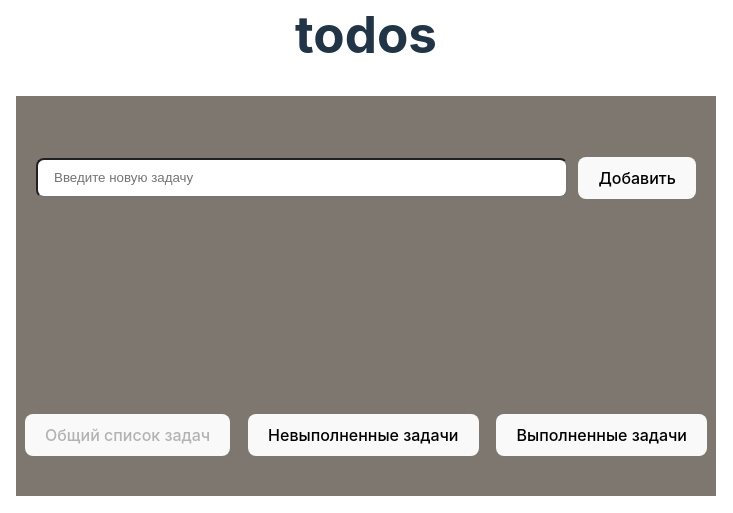
Test: добавление новой задачи
Type "Первая задача" into the field with placeholder "Введите новую задачу" at (302, 178), box [36, 158, 568, 198]
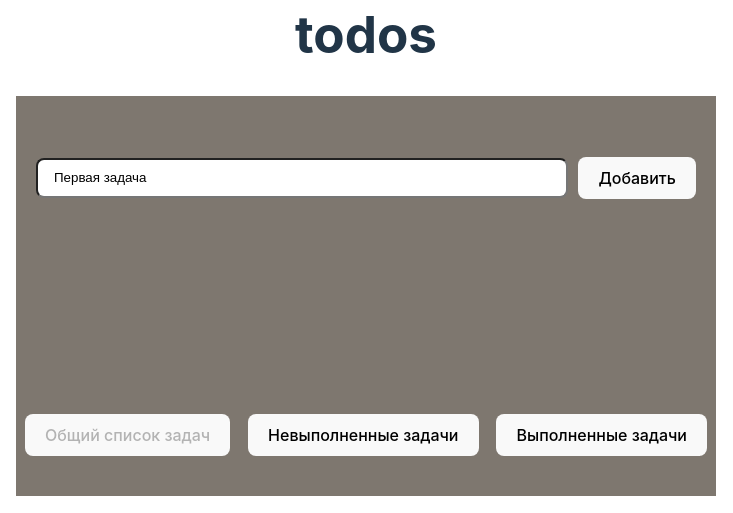
Click the button "Добавить" at (637, 178), box [578, 157, 696, 199]
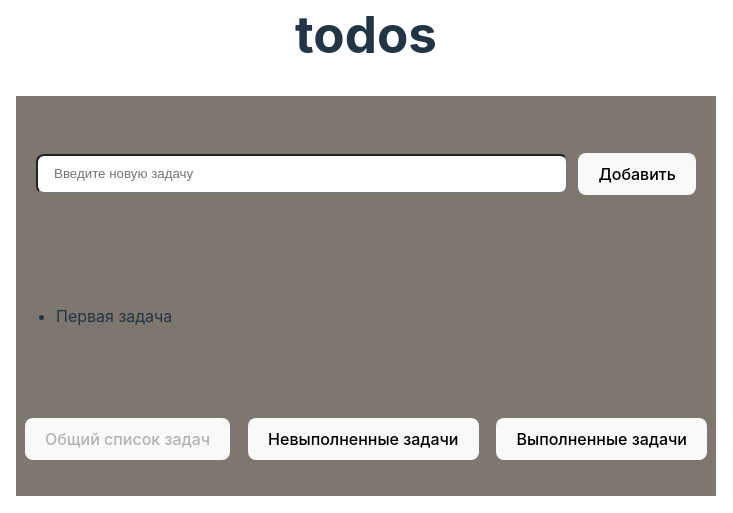
expect the list item "Первая задача" is shown: met, box [56, 306, 172, 326]
